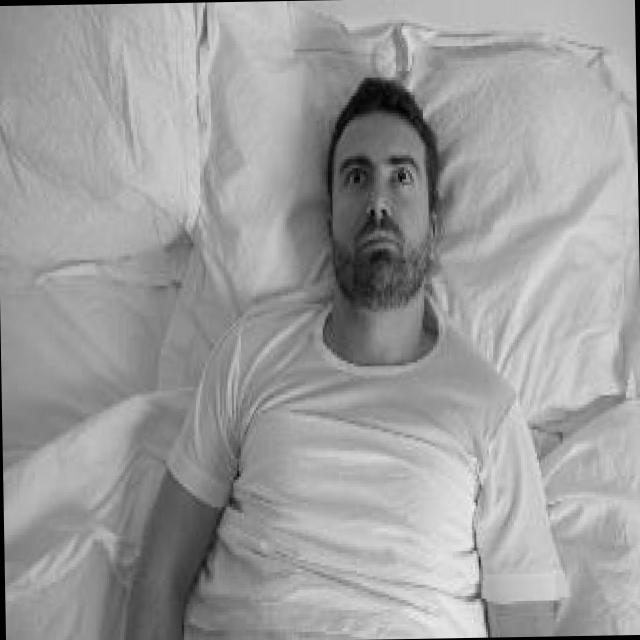Focused: (334, 126, 428, 282)
